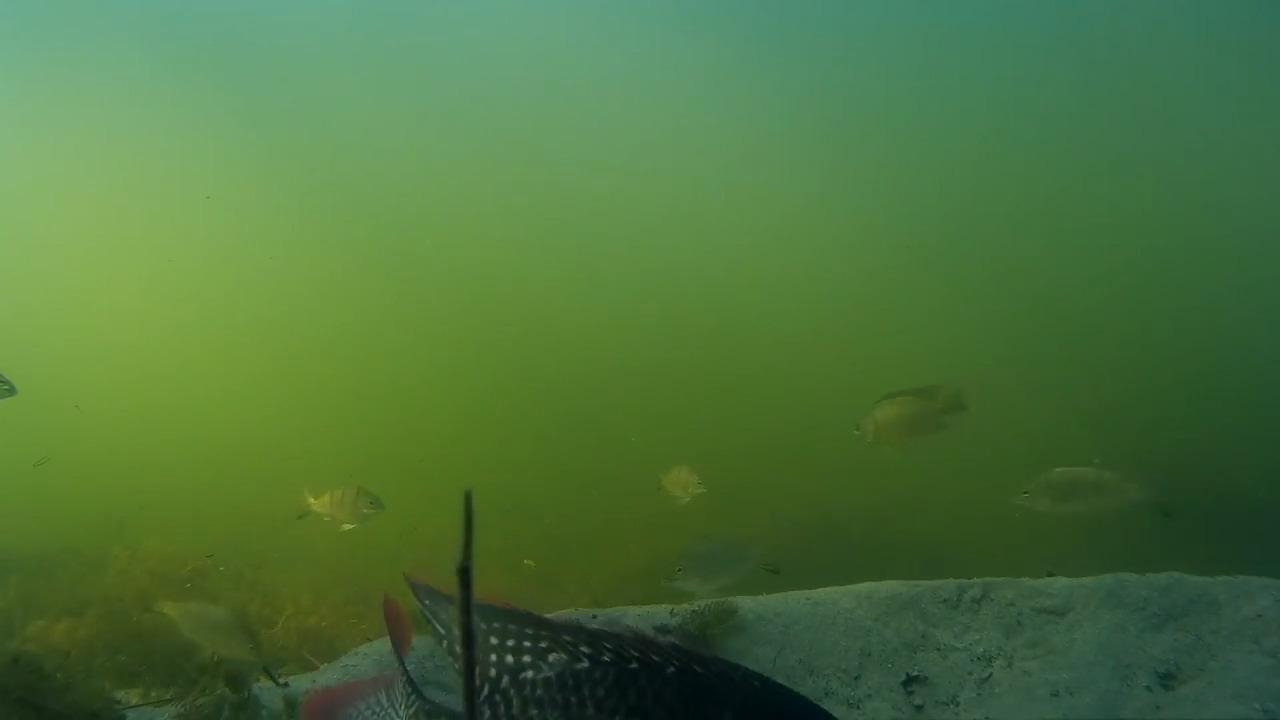Tilapia: (305, 564, 850, 720), (137, 574, 287, 684), (1023, 460, 1182, 544), (656, 534, 797, 606), (841, 376, 980, 446), (294, 480, 395, 534), (647, 452, 738, 508)
